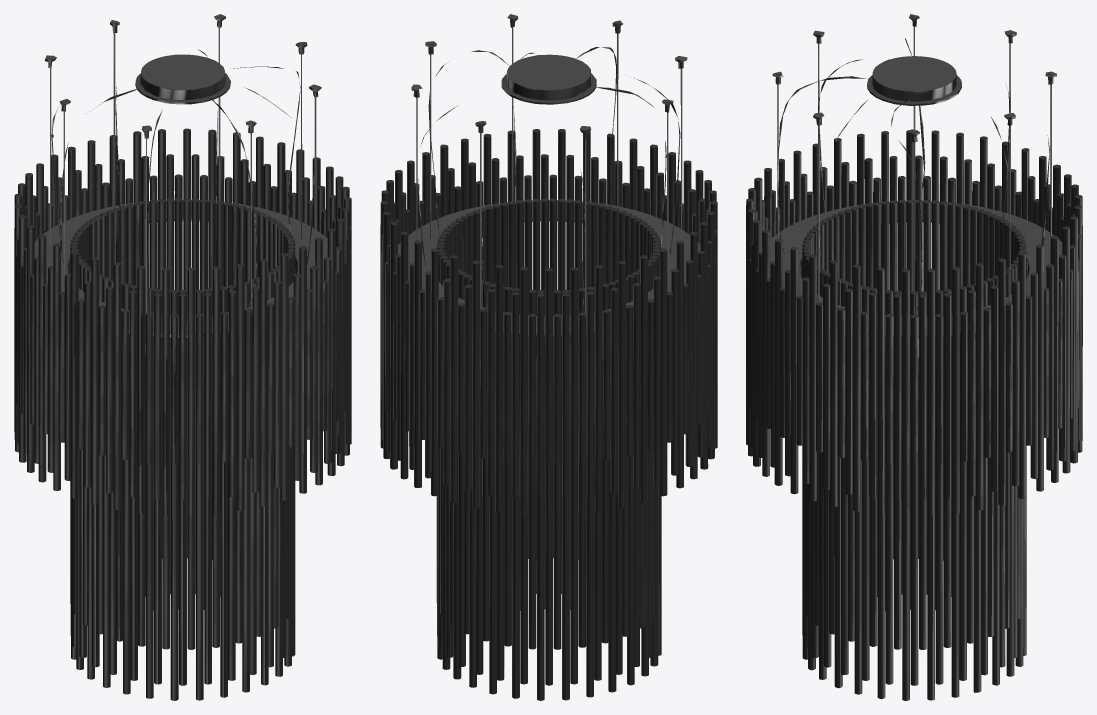
Rendered from raw_model.obj.
3 views of the same model, side by side, from view 1: azimuth 30°, elevation 25°; view 2: azimuth 150°, elevation 25°; view 3: azimuth 270°, elevation 25° (orthographic).
Visible parts, largest first — view 1: glass_001, solid_001, solid_002; view 2: glass_001, solid_001, solid_002; view 3: glass_001, solid_001, solid_002.
Boxes of the visible parts, <box> form: glass_001: <box>14,128,351,700</box>; solid_001: <box>34,14,336,354</box>; solid_002: <box>50,27,316,313</box>; glass_001: <box>380,129,717,700</box>; solid_001: <box>398,14,700,355</box>; solid_002: <box>416,27,682,312</box>; glass_001: <box>746,130,1082,700</box>; solid_001: <box>761,14,1062,357</box>; solid_002: <box>777,26,1051,314</box>.
Bounding box in the file's own units: 0.5997 × 1.14 × 0.5999.
1 material, 1 textured.
